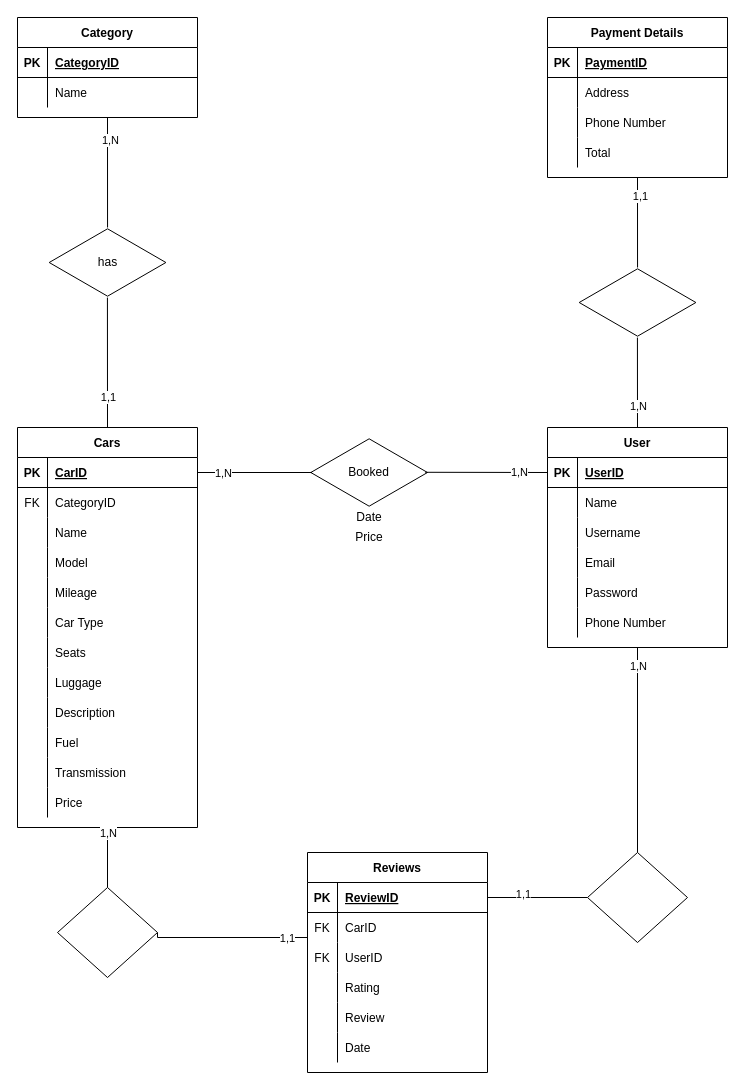
The diagram is 745 pixels wide and 1090 high, and some of its shapes have lost their labels. The shapes that lost their labels are listed below. From the top down, each one's centre as x and y in pixels, then its label:
At point (637, 302): "Pays through".
At point (637, 897): "Written By".
At point (107, 932): "Has Review".
